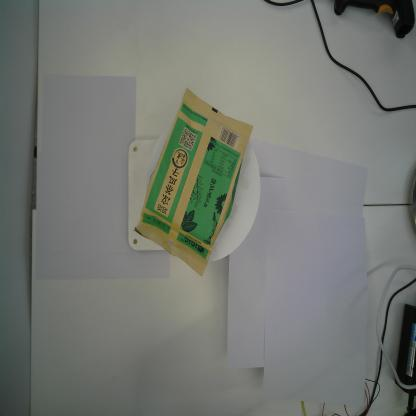Dried Food: (133, 86, 255, 278)
